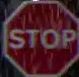Stop: (3, 2, 78, 76)
